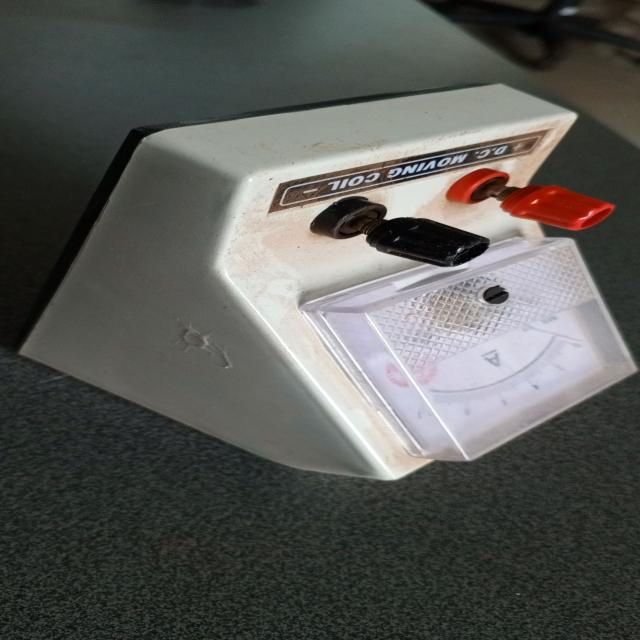Ammeter Analog: (14, 72, 640, 480)
